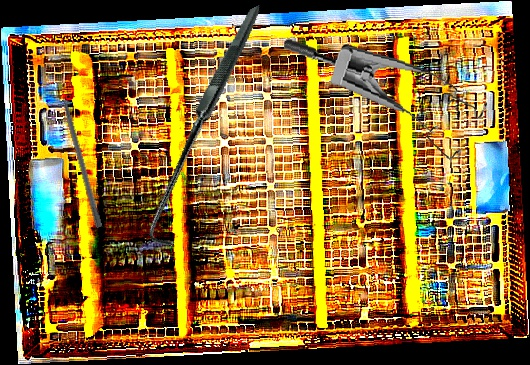Hook Surgical: (81, 4, 336, 252)
Pusher: (56, 79, 104, 229)
Speculum: (272, 35, 493, 165)
